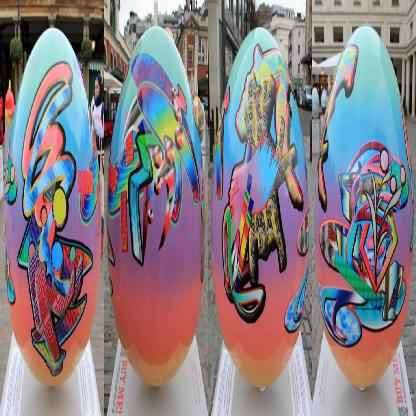Ball: (313, 21, 415, 385), (5, 23, 102, 392), (212, 23, 308, 386), (107, 31, 204, 388)
